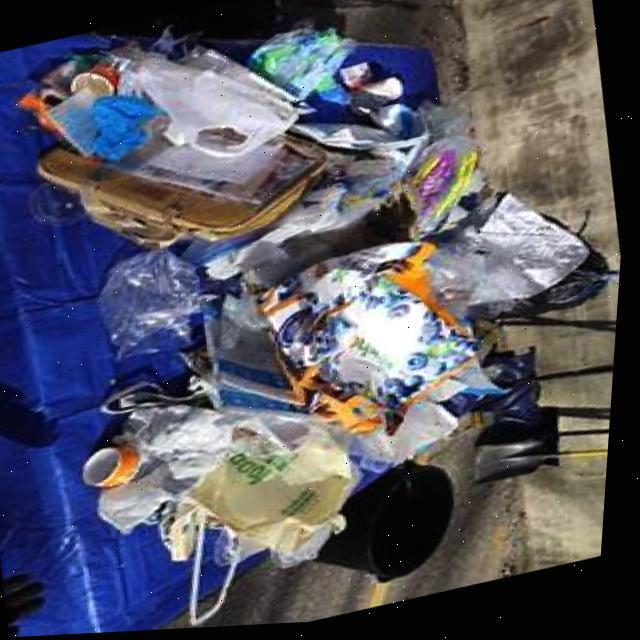Garbage: (26, 32, 619, 626)
